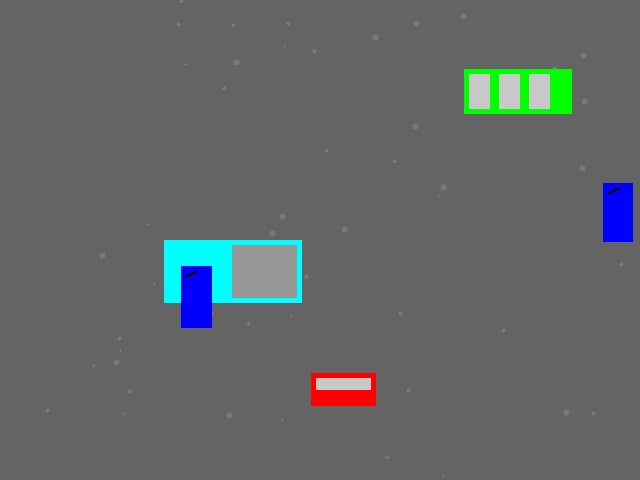bus: (464, 69, 571, 113)
car: (311, 373, 375, 405)
motorcycle: (181, 266, 211, 327), (603, 183, 632, 241)
truck: (164, 240, 301, 302)
